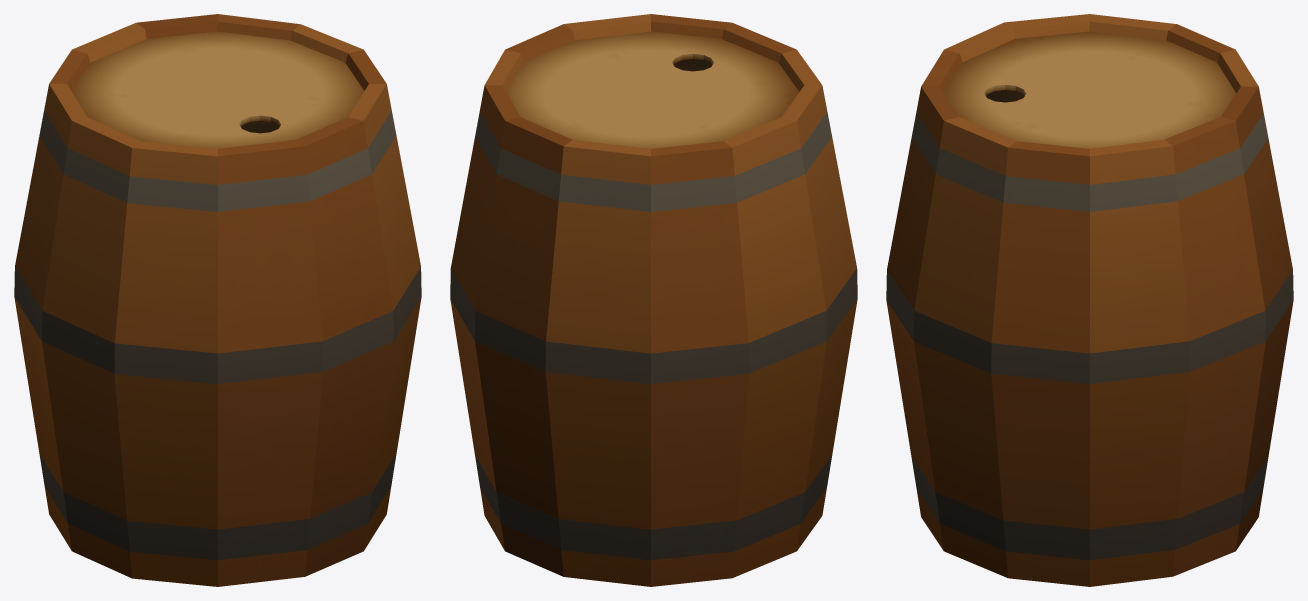
File: Barrel_A.fbx
The picture shows the model from 3 angles, left to right: view 1: azimuth 30°, elevation 25°; view 2: azimuth 150°, elevation 25°; view 3: azimuth 270°, elevation 25°; orthographic projection.
Parts seen in each view (by area): view 1: Barrel_A; view 2: Barrel_A; view 3: Barrel_A.
Part boxes in pixels (bbox=[...]): Barrel_A: bbox=[14, 14, 421, 586]; Barrel_A: bbox=[450, 14, 857, 586]; Barrel_A: bbox=[886, 14, 1293, 586].
Size of the model in its own units: 83.55 by 97.67 by 83.74.
